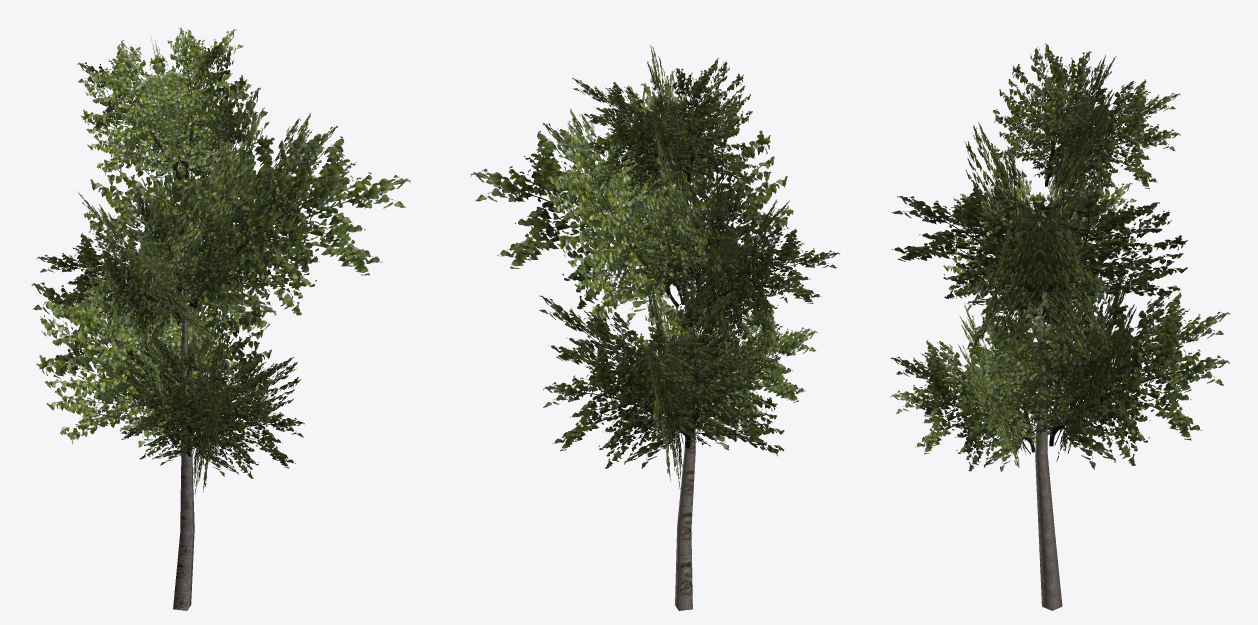
Rendered from ArbolVR1.fbx.
3 views of the same model, side by side, from view 1: azimuth 30°, elevation 25°; view 2: azimuth 150°, elevation 25°; view 3: azimuth 270°, elevation 25° (orthographic). The views are drawn at different scales.
Visible parts, largest first — view 1: ARBOL ESTEBAN 2; view 2: ARBOL ESTEBAN 2; view 3: ARBOL ESTEBAN 2.
Boxes of the visible parts, <box> form: ARBOL ESTEBAN 2: <box>31,27,410,610</box>; ARBOL ESTEBAN 2: <box>470,45,839,610</box>; ARBOL ESTEBAN 2: <box>890,43,1229,610</box>.
Size of the model in its own units: 4.55 by 7.55 by 4.35.
